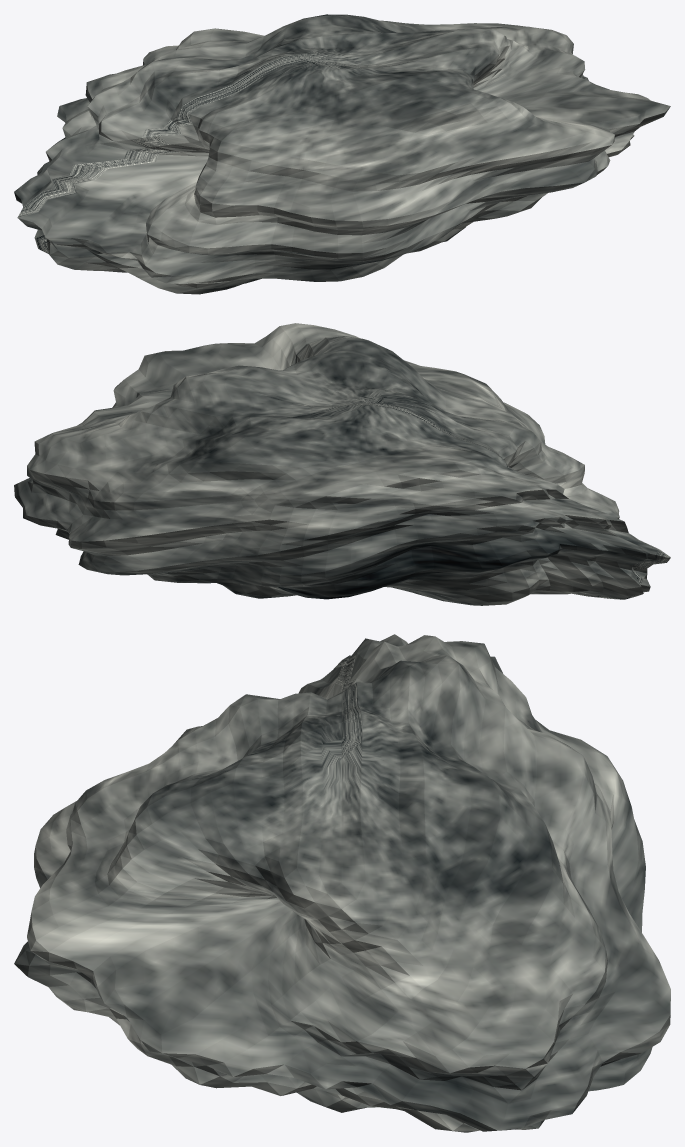
Rendered from broken_plate.glb.
3 renders of one model, top to bottom at view 1: azimuth 30°, elevation 25°; view 2: azimuth 150°, elevation 25°; view 3: azimuth 270°, elevation 25°, orthographic. The views are drawn at different scales.
Parts seen in each view (by area): view 1: rock; view 2: rock; view 3: rock.
Part boxes in pixels (x1=…): rock: x1=14, y1=14, x2=670, y2=294; rock: x1=14, y1=323, x2=670, y2=605; rock: x1=14, y1=634, x2=670, y2=1132.
Bounding box in the file's own units: 25.55 × 7.19 × 16.82.
Materials: 1 (1 with a texture image).
